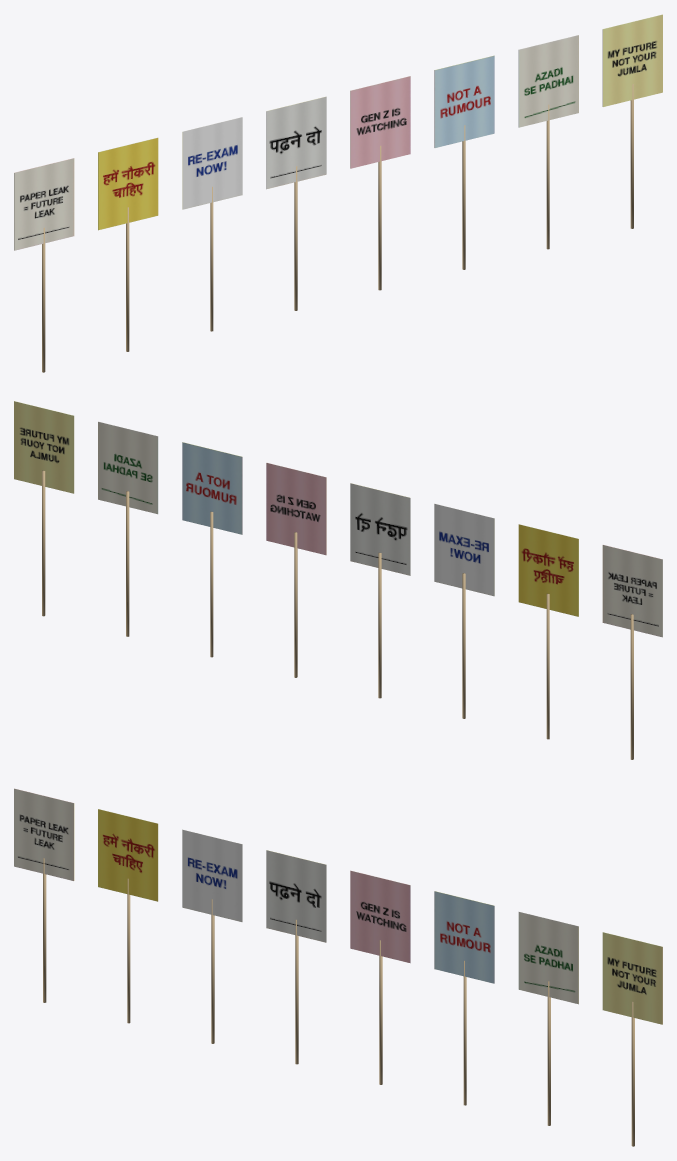
Rendered from placards.glb.
3 views of the same model, one above another, from view 1: azimuth 30°, elevation 25°; view 2: azimuth 150°, elevation 25°; view 3: azimuth 330°, elevation 25° (orthographic).
Visible parts, largest first — view 1: Placard 6 / Placard chart paper, Placard 7 / Placard chart paper, Placard 5 / Placard chart paper, Placard 3 / Placard chart paper, Placard 4 / Placard chart paper, Placard 0 / Placard chart paper, Placard 1 / Placard chart paper, Placard 2 / Placard chart paper, Placard 0 / Placard stick, Placard 1 / Placard stick, Placard 3 / Placard stick, Placard 4 / Placard stick (+4 smaller); view 2: Placard 4 / Placard chart paper, Placard 2 / Placard chart paper, Placard 3 / Placard chart paper, Placard 5 / Placard chart paper, Placard 0 / Placard chart paper, Placard 1 / Placard chart paper, Placard 6 / Placard chart paper, Placard 7 / Placard chart paper, Placard 0 / Placard stick, Placard 1 / Placard stick, Placard 2 / Placard stick, Placard 5 / Placard stick (+4 smaller); view 3: Placard 0 / Placard chart paper, Placard 1 / Placard chart paper, Placard 2 / Placard chart paper, Placard 4 / Placard chart paper, Placard 3 / Placard chart paper, Placard 5 / Placard chart paper, Placard 6 / Placard chart paper, Placard 7 / Placard chart paper, Placard 7 / Placard stick, Placard 0 / Placard stick, Placard 1 / Placard stick, Placard 2 / Placard stick (+4 smaller).
Boxes of the visible parts, box(x1,y1,x2,y2) form: Placard 6 / Placard chart paper: box(518, 35, 578, 127); Placard 7 / Placard chart paper: box(602, 14, 662, 106); Placard 5 / Placard chart paper: box(434, 55, 494, 147); Placard 3 / Placard chart paper: box(266, 96, 326, 189); Placard 4 / Placard chart paper: box(350, 76, 410, 168); Placard 0 / Placard chart paper: box(14, 158, 74, 250); Placard 1 / Placard chart paper: box(98, 137, 158, 230); Placard 2 / Placard chart paper: box(182, 117, 242, 209); Placard 0 / Placard stick: box(42, 227, 45, 372); Placard 1 / Placard stick: box(126, 207, 129, 351); Placard 3 / Placard stick: box(294, 166, 297, 310); Placard 4 / Placard stick: box(378, 145, 381, 290); Placard 4 / Placard chart paper: box(266, 462, 326, 555); Placard 2 / Placard chart paper: box(434, 503, 494, 596); Placard 3 / Placard chart paper: box(350, 483, 410, 575); Placard 5 / Placard chart paper: box(182, 442, 242, 534); Placard 0 / Placard chart paper: box(602, 544, 662, 637); Placard 1 / Placard chart paper: box(518, 524, 578, 616); Placard 6 / Placard chart paper: box(98, 421, 158, 514); Placard 7 / Placard chart paper: box(14, 401, 74, 493); Placard 0 / Placard stick: box(630, 614, 633, 759); Placard 1 / Placard stick: box(546, 593, 549, 739); Placard 2 / Placard stick: box(462, 573, 465, 718); Placard 5 / Placard stick: box(210, 511, 213, 657); Placard 0 / Placard chart paper: box(14, 788, 74, 880); Placard 1 / Placard chart paper: box(98, 809, 158, 901); Placard 2 / Placard chart paper: box(182, 829, 242, 921); Placard 4 / Placard chart paper: box(350, 870, 410, 963); Placard 3 / Placard chart paper: box(266, 850, 326, 942); Placard 5 / Placard chart paper: box(434, 891, 494, 983); Placard 6 / Placard chart paper: box(518, 911, 578, 1004); Placard 7 / Placard chart paper: box(602, 932, 662, 1024); Placard 7 / Placard stick: box(631, 1001, 634, 1146); Placard 0 / Placard stick: box(43, 858, 46, 1002); Placard 1 / Placard stick: box(127, 878, 130, 1023); Placard 2 / Placard stick: box(211, 899, 214, 1043).
Bounding box in the file's own units: 5.4 × 1.64 × 0.024.
Materials: 2 (1 with a texture image).
